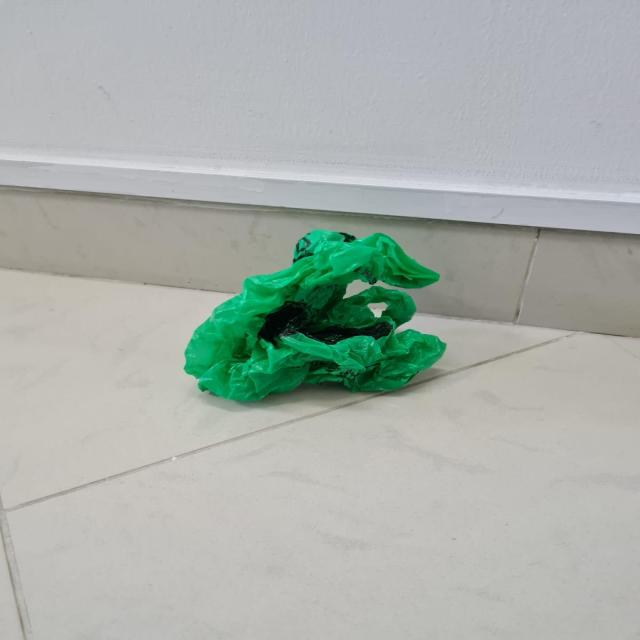plastic bag: (183, 227, 445, 406)
